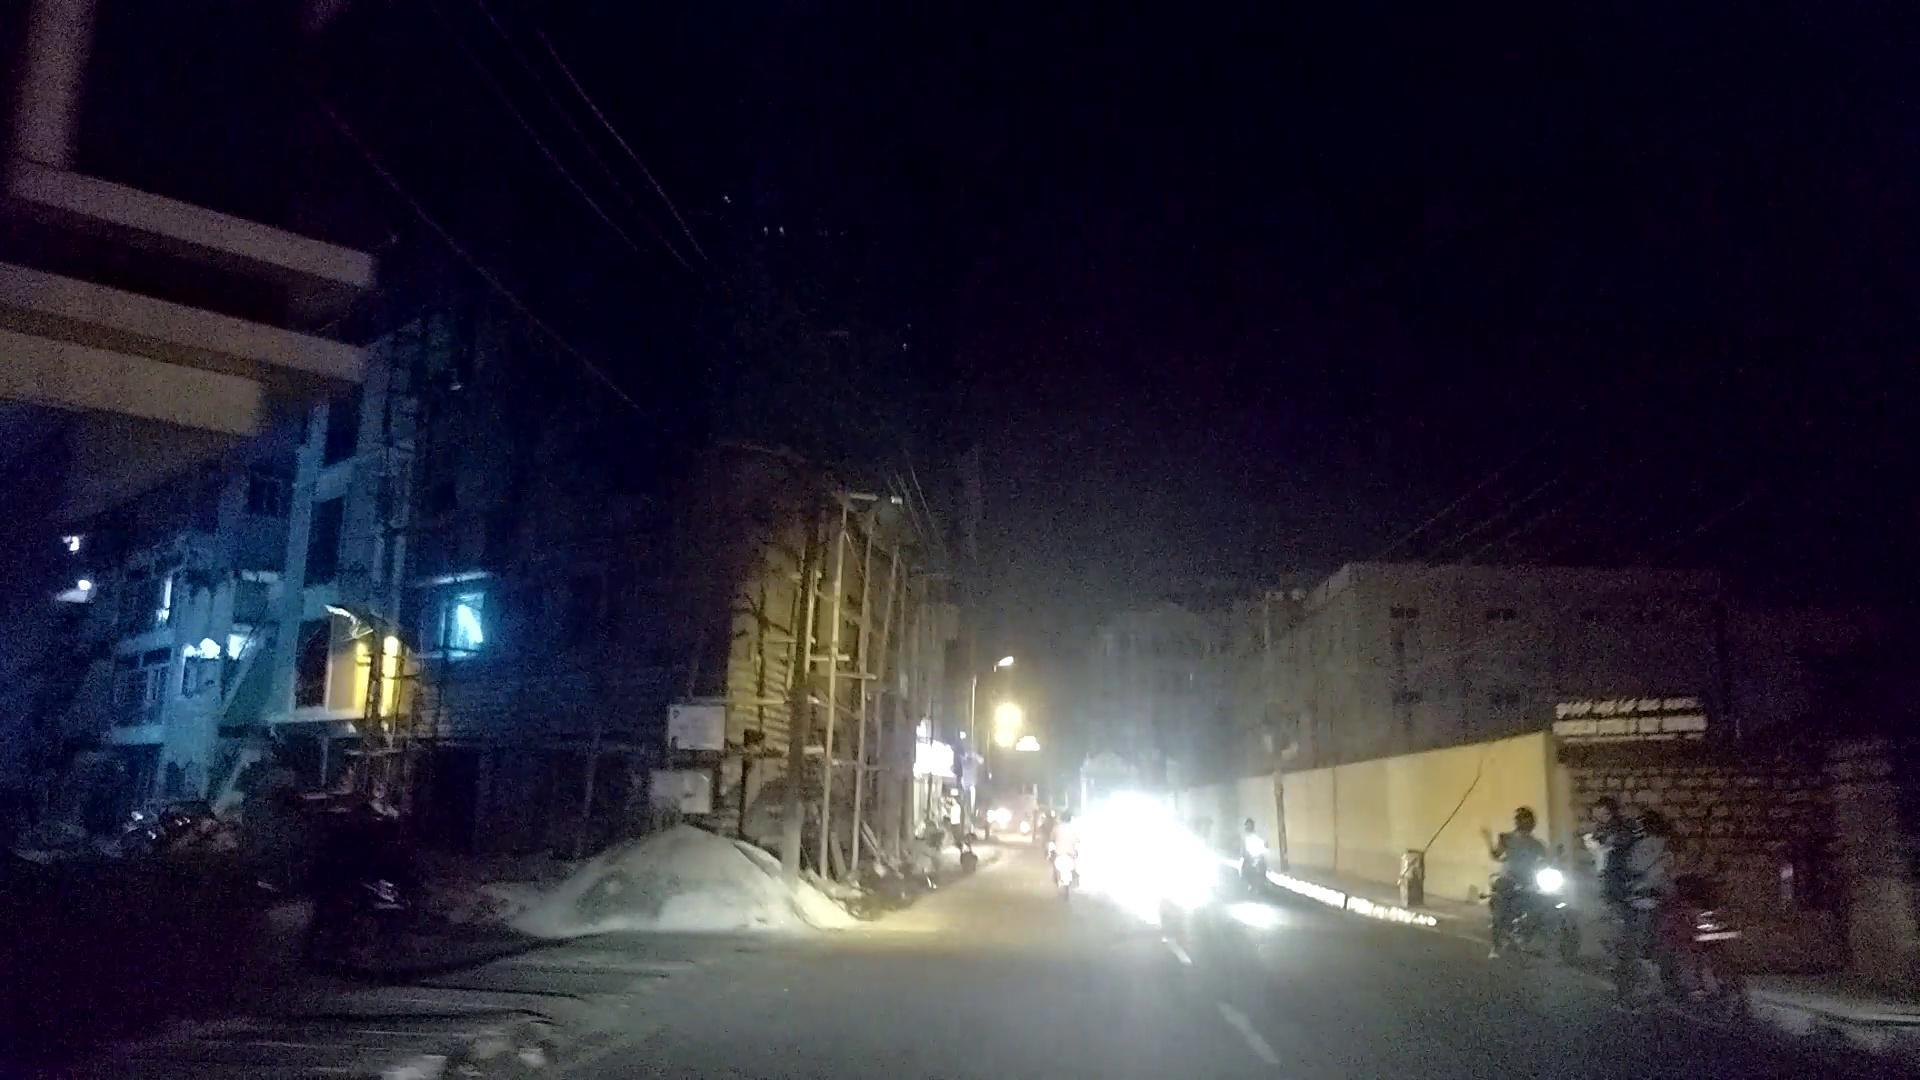on: (430, 512, 1191, 819)
